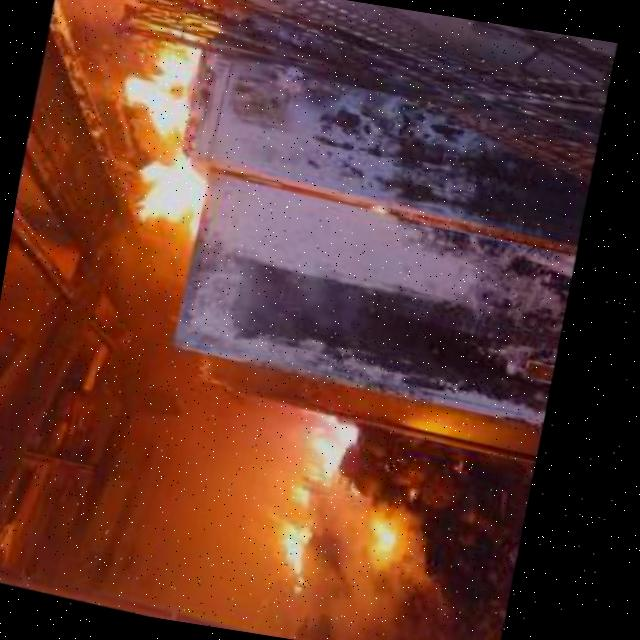fire: (96, 18, 245, 250), (294, 409, 366, 490), (255, 512, 317, 601), (359, 519, 401, 571), (288, 481, 316, 514)
